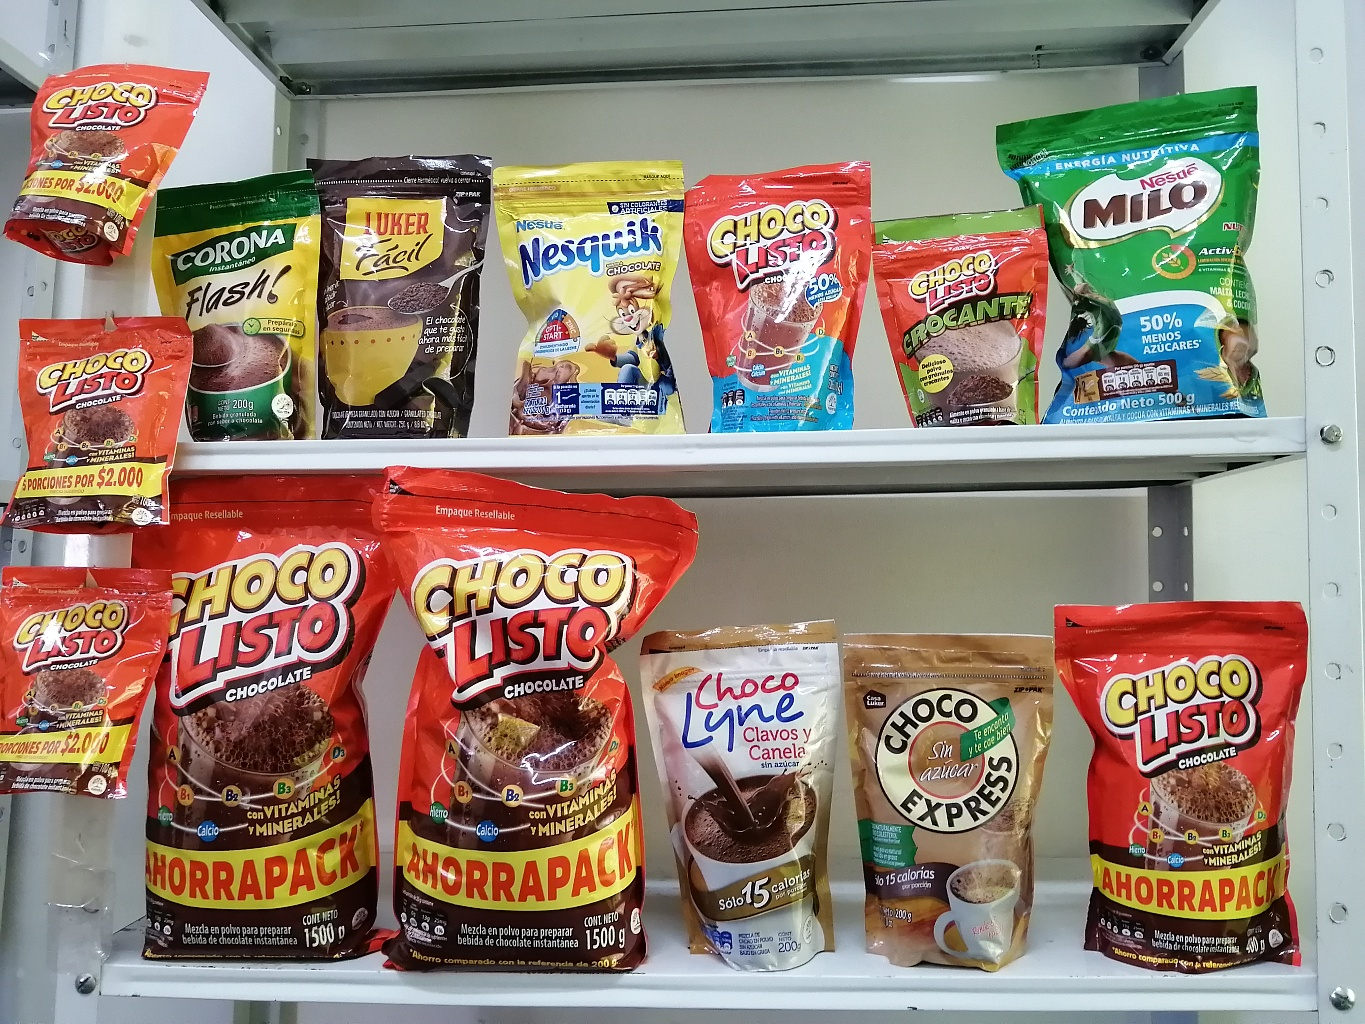COL0170102DYP10000: (864, 196, 1068, 438)
COL0170103DYP1,500: (369, 460, 713, 976)
COL0170103DYP10000: (6, 53, 213, 275)
COL0170103DYP40000: (1034, 580, 1327, 987)
COL0170104DYP20000: (671, 148, 902, 441)
COL0170205DYP50000: (983, 65, 1289, 431)
COL0170303DYP20000: (477, 141, 711, 445)
